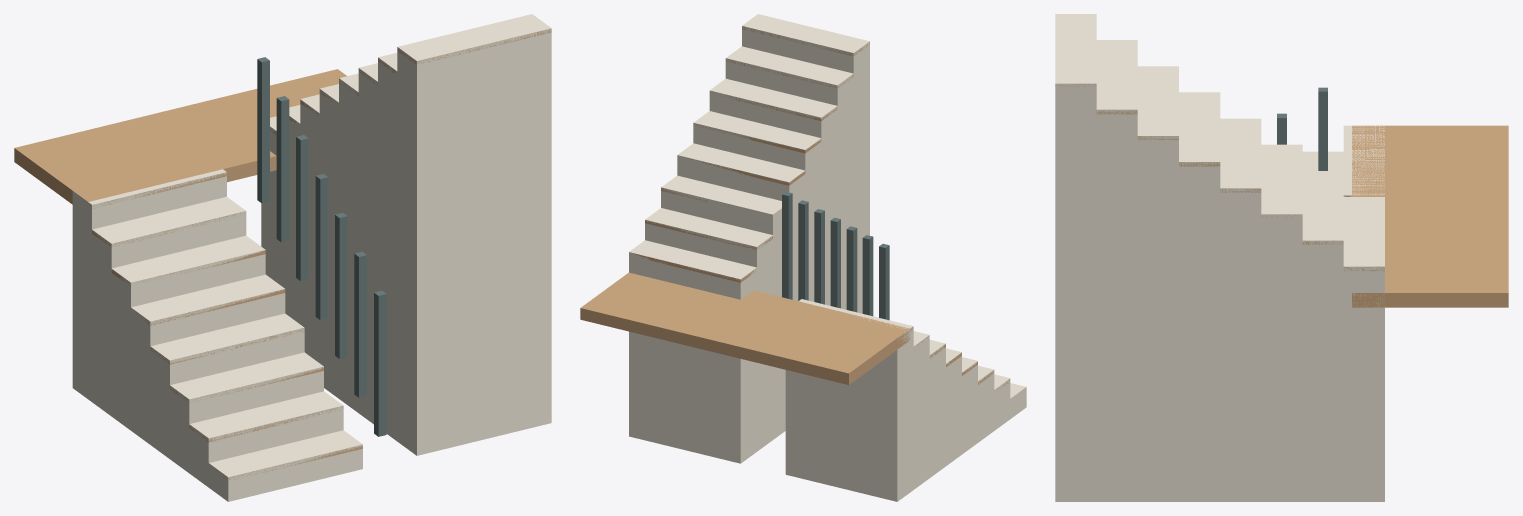
Rendered from return-stair.glb.
3 renders of one model, left to right at view 1: azimuth 30°, elevation 25°; view 2: azimuth 150°, elevation 25°; view 3: azimuth 270°, elevation 25°, orthographic. The views are drawn at different scales.
Size of the model in its own units: 2.4 by 2.8 by 2.75.
